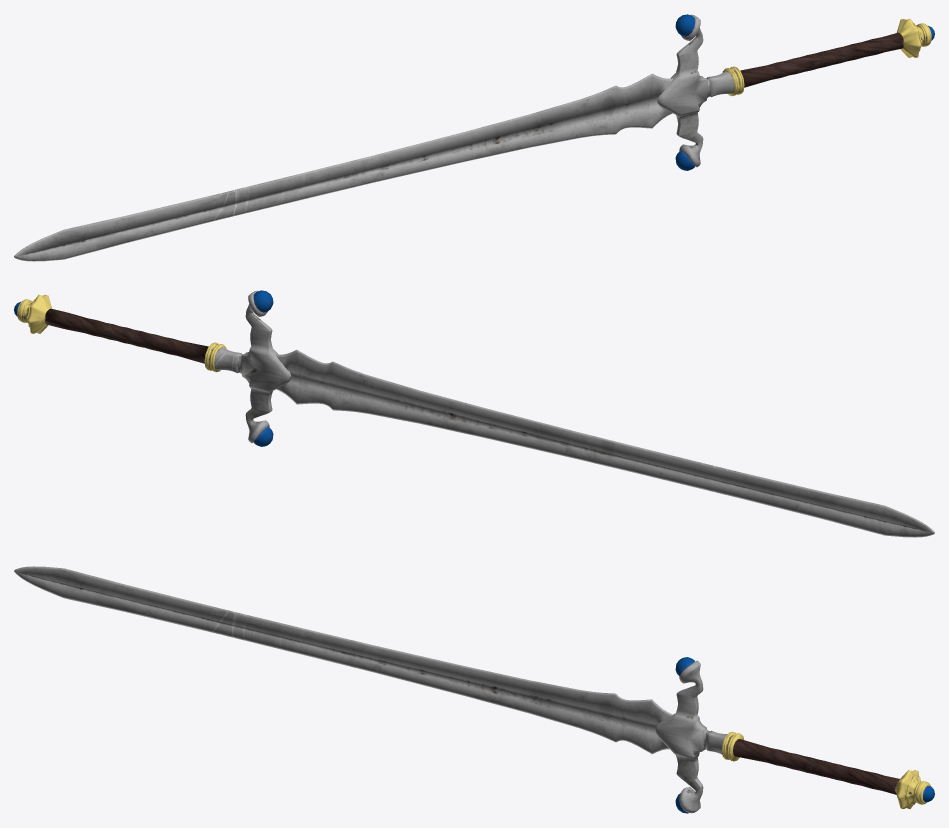
The model's file is fantasy_sword.glb.
The picture shows the model from 3 angles, top to bottom: view 1: azimuth 30°, elevation 25°; view 2: azimuth 150°, elevation 25°; view 3: azimuth 330°, elevation 25°; orthographic projection.
Visible parts, largest first — view 1: MW_Sword; view 2: MW_Sword; view 3: MW_Sword.
Boxes of the visible parts, bbox=[...] form: MW_Sword: bbox=[14, 14, 934, 261]; MW_Sword: bbox=[14, 290, 934, 537]; MW_Sword: bbox=[14, 566, 934, 813].
Size of the model in its own units: 2 by 0.3203 by 0.0813.
1 material, 1 textured.
